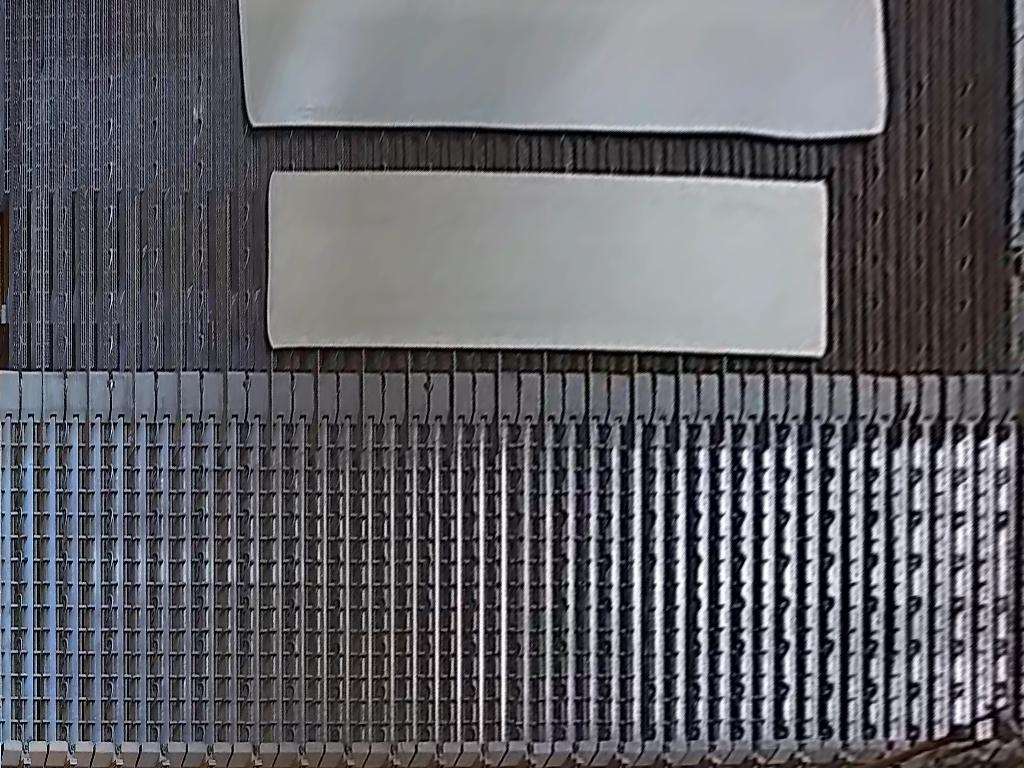steel: (263, 169, 828, 358), (238, 1, 887, 139)
